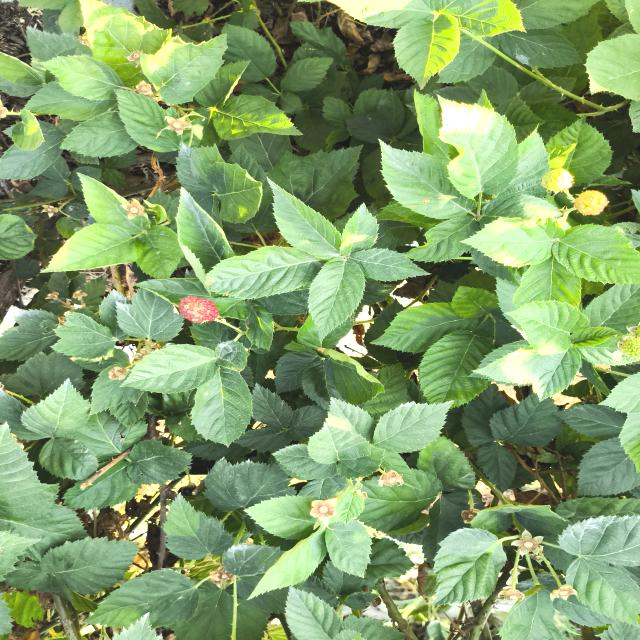naranja: (179, 296, 219, 323)
verde: (611, 323, 640, 361), (574, 190, 608, 215), (541, 168, 573, 192)
